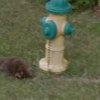Hydrant: (34, 0, 80, 77)
